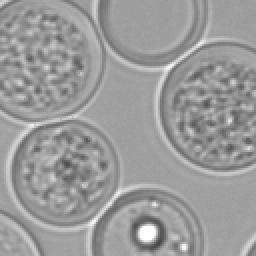picoshell: (154, 44, 254, 174), (6, 120, 120, 228), (0, 0, 102, 120), (92, 0, 210, 70), (86, 184, 204, 254), (0, 212, 40, 254), (240, 232, 254, 254)
